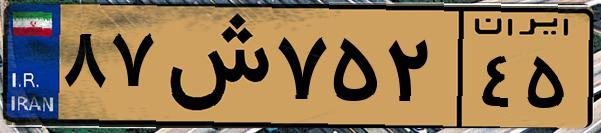2: (385, 28, 445, 110)
4: (475, 38, 525, 113)
5: (330, 28, 385, 110), (525, 38, 570, 115)
7: (270, 28, 330, 110), (110, 28, 158, 98)
8: (57, 26, 110, 100)
ش: (158, 12, 270, 120)
